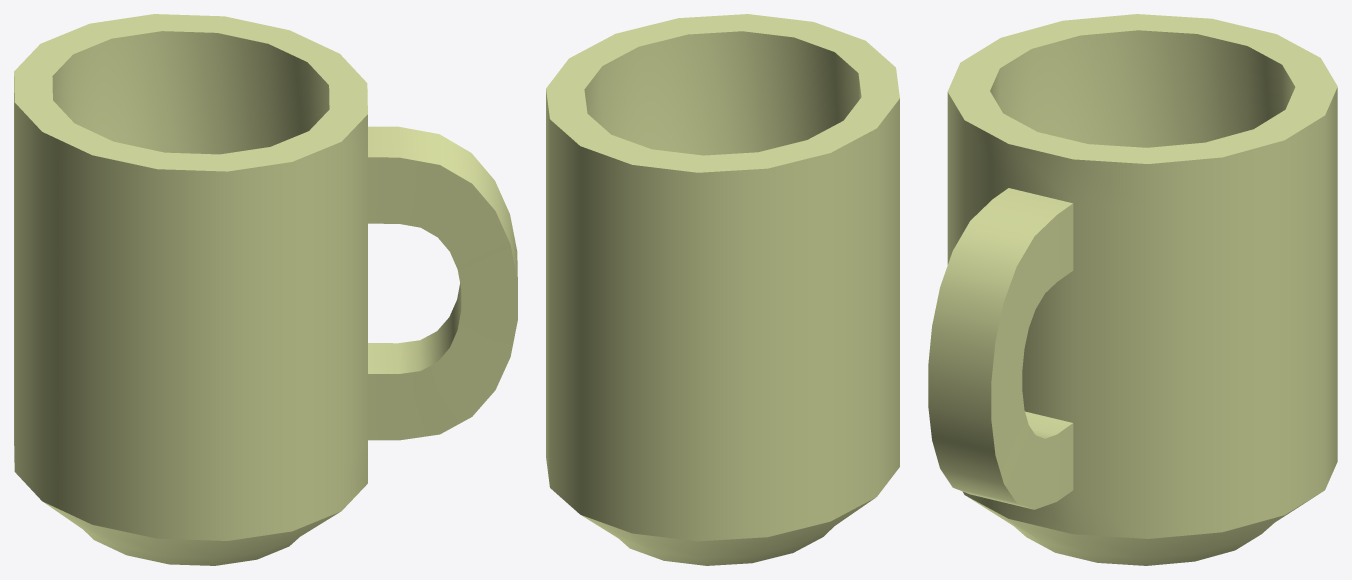
Rendered from mugYellow.fbx.
3 renders of one model, left to right at view 1: azimuth 30°, elevation 25°; view 2: azimuth 150°, elevation 25°; view 3: azimuth 270°, elevation 25°, orthographic.
Visible parts, largest first — view 1: Circle.004; view 2: Circle.004; view 3: Circle.004.
Boxes of the visible parts, x1=… form: Circle.004: x1=14, y1=14, x2=517, y2=565; Circle.004: x1=546, y1=14, x2=899, y2=565; Circle.004: x1=928, y1=14, x2=1337, y2=565.
Bounding box in the file's own units: 49.44 × 49.4 × 42.86.
